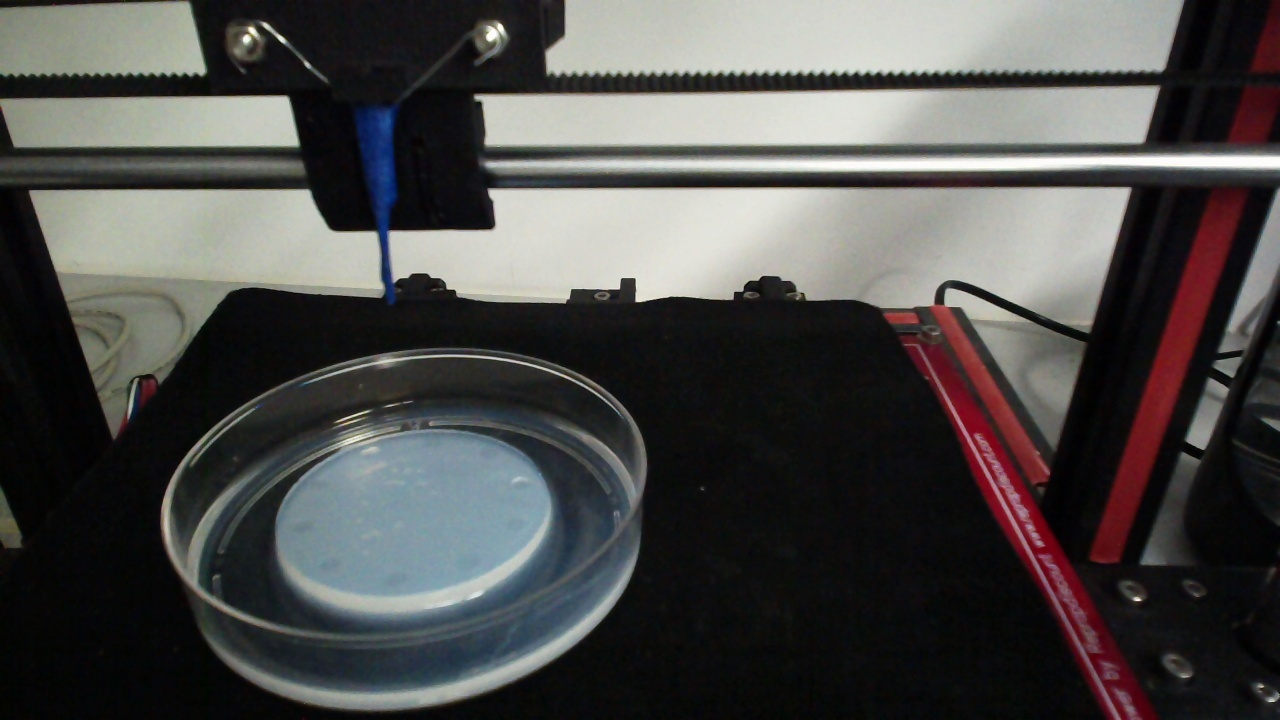groove: (315, 555, 344, 576), (453, 552, 483, 571), (290, 517, 319, 535), (380, 570, 408, 588), (503, 513, 529, 532), (475, 445, 501, 463), (309, 475, 332, 492), (509, 476, 531, 493), (357, 446, 379, 461), (419, 434, 441, 449)
needle: (356, 109, 395, 303)
